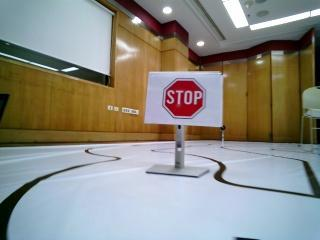stop: (152, 73, 220, 123)
